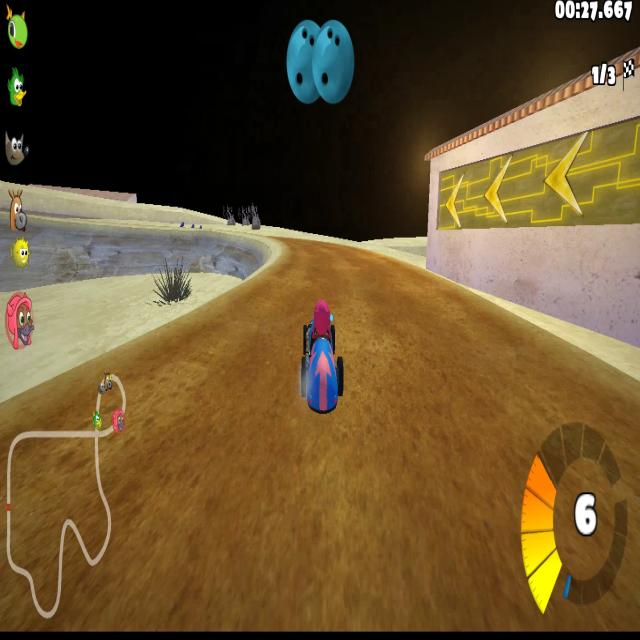off_track: (52, 185, 199, 304)
player_kart: (300, 303, 345, 409)
track: (274, 226, 369, 298)
